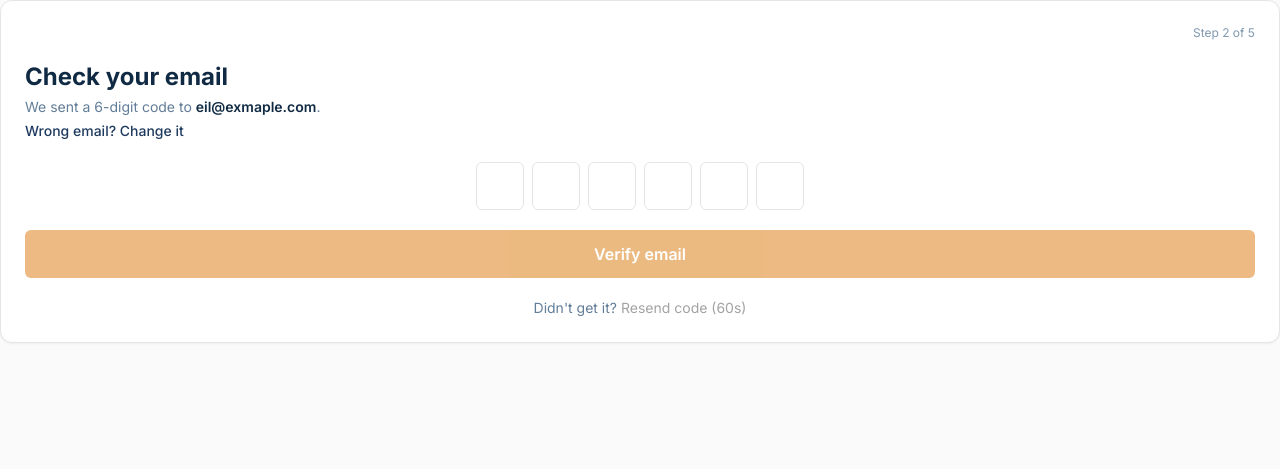
VerifyPage › lets a user correct a mistyped email and re-sends the code (issue #92)
Check: the text "eil@exmaple.com" is shown, box [196,98,316,115]
Open the change-email editor and submit the corrected address.
Click the button "Wrong email? Change it" at (104, 131), box [25,121,184,141]
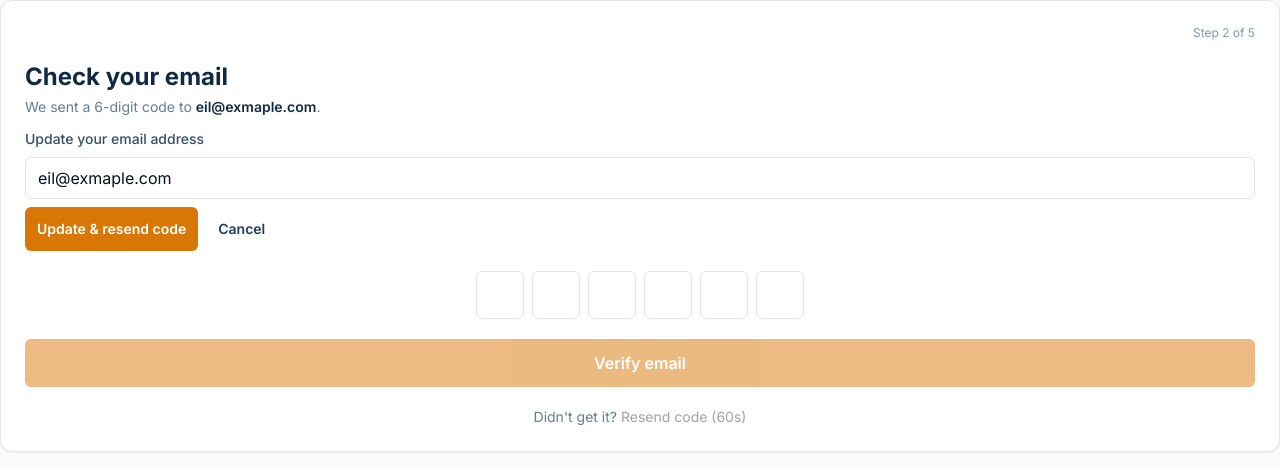
Replace the text in the field labelled "Update your email address" with "eli@example.com" at (640, 178), box [25,157,1255,199]
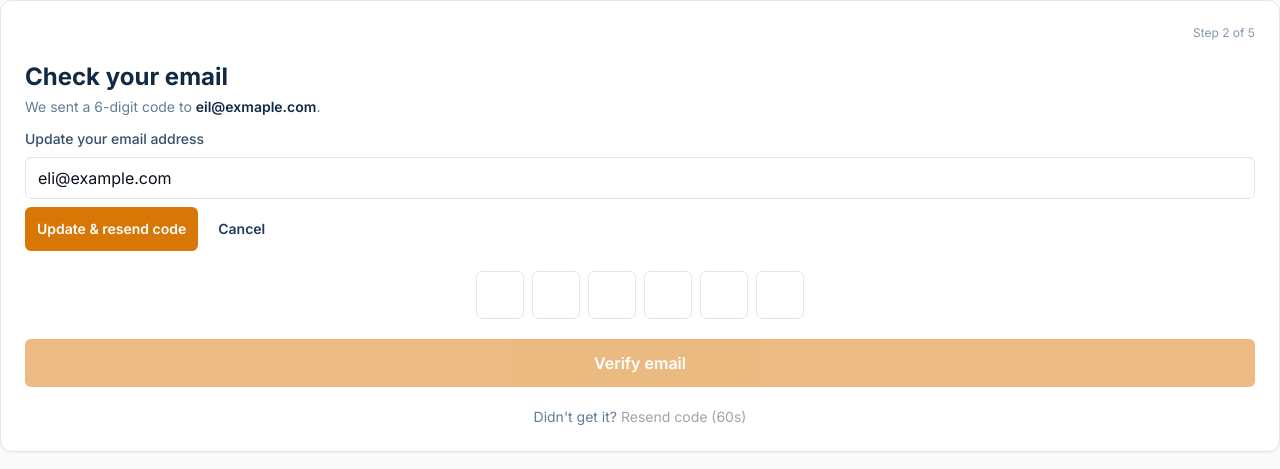
Click the button "Update & resend code" at (112, 229), box [25,207,198,251]
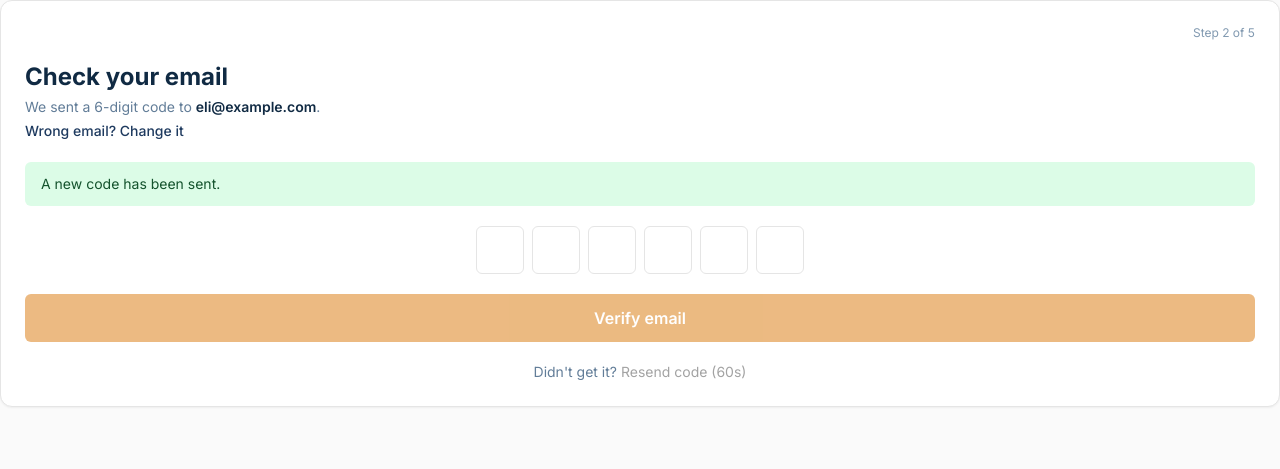
Check: the text "eli@example.com" is shown, box [196,98,316,115]
Check: the text "A new code has been sent." is shown, box [25,162,1255,206]
